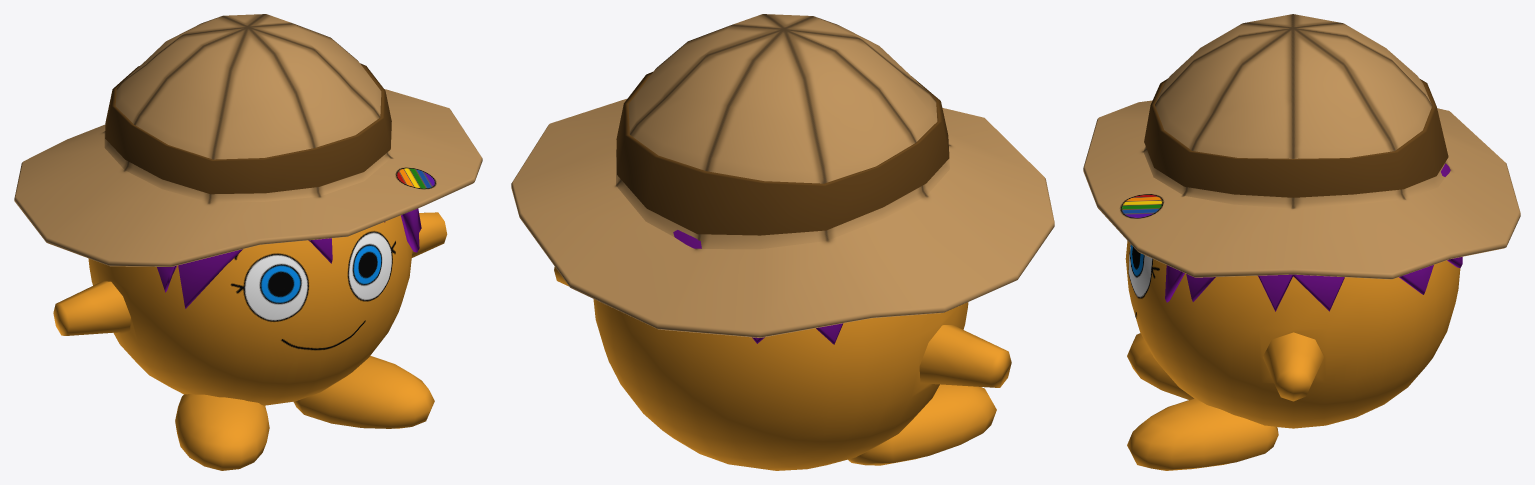
File: Charlie.fbx
The picture shows the model from 3 angles, left to right: view 1: azimuth 30°, elevation 25°; view 2: azimuth 150°, elevation 25°; view 3: azimuth 270°, elevation 25°; orthographic projection. The views are drawn at different scales.
Visible parts, largest first — view 1: Body1; view 2: Body1; view 3: Body1.
Boxes of the visible parts, bbox=[...] form: Body1: bbox=[14, 14, 482, 470]; Body1: bbox=[511, 14, 1054, 470]; Body1: bbox=[1083, 14, 1520, 470].
Size of the model in its own units: 556 by 497 by 495.
5 materials, 5 textured.
